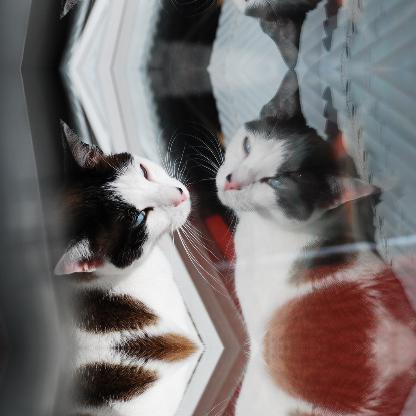Cat: (53, 119, 230, 346), (52, 348, 230, 415)
